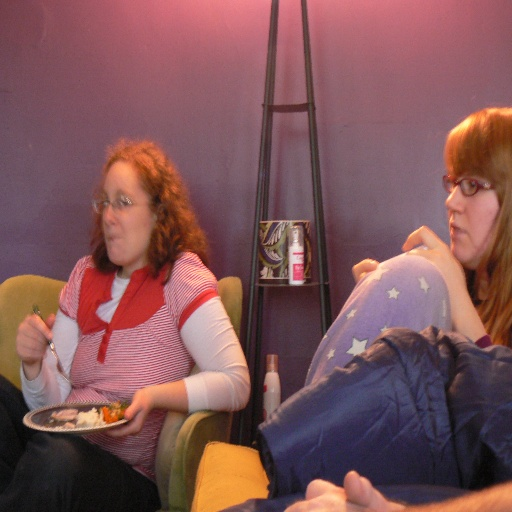hand: (399, 222, 468, 318), (8, 313, 58, 395), (280, 480, 389, 511), (344, 467, 401, 511), (102, 388, 150, 439), (351, 256, 381, 284)
